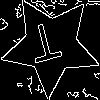T: (26, 20, 66, 73)
